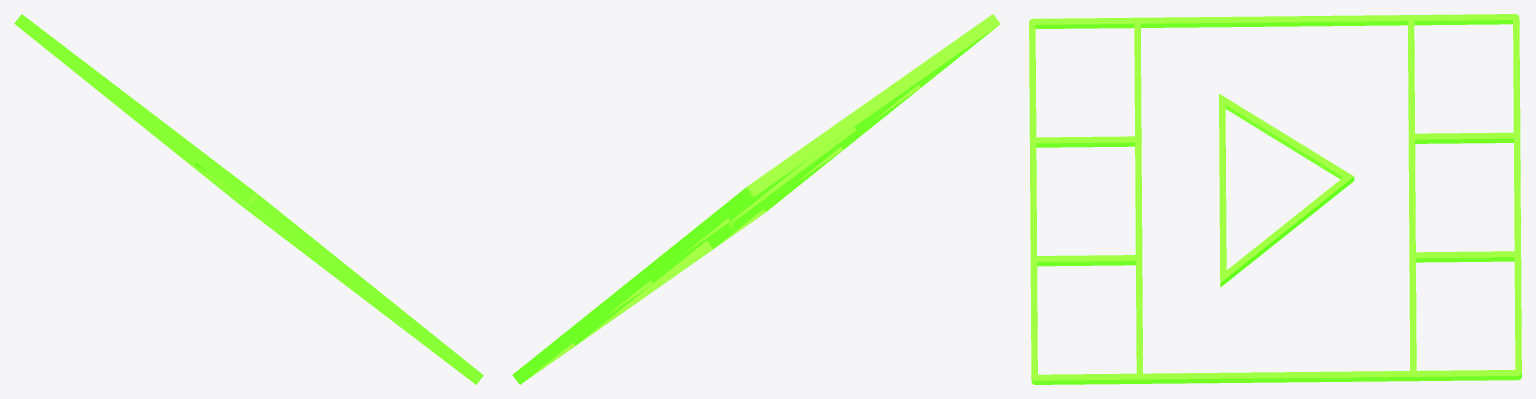
The model's file is video_on.glb.
The picture shows the model from 3 angles, left to right: view 1: azimuth 30°, elevation 25°; view 2: azimuth 150°, elevation 25°; view 3: azimuth 270°, elevation 25°; orthographic projection. The views are drawn at different scales.
Visible parts, largest first — view 1: video_on; view 2: video_on; view 3: video_on.
Boxes of the visible parts, <box> form: video_on: <box>14,14,483,384</box>; video_on: <box>512,14,1000,384</box>; video_on: <box>1029,14,1521,384</box>.
Size of the model in its own units: 0.0269 by 0.0273 by 0.0469.
